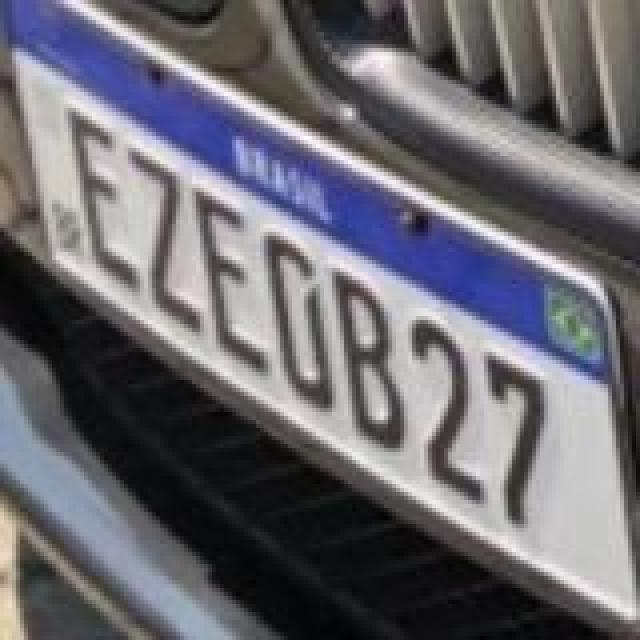2: (408, 310, 488, 506)
7: (484, 348, 548, 532)
B: (328, 264, 408, 456)
D: (262, 228, 338, 412)
E: (190, 184, 274, 376), (66, 106, 142, 294)
Z: (130, 142, 206, 338)
